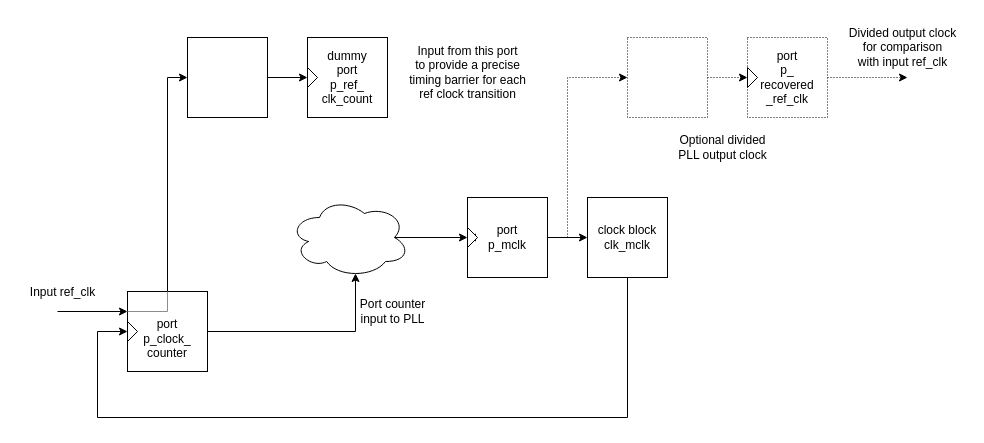
Image size: 984x443. Some labels were removed from this diagram. Here are the shapes that lost their labels. From the top down, the centre of each, then its label:
the point at 227,77: clock block clk_ref_clk
the point at 667,77: clock block clk_recovered _ref_clk
the point at 349,237: sw_pll
